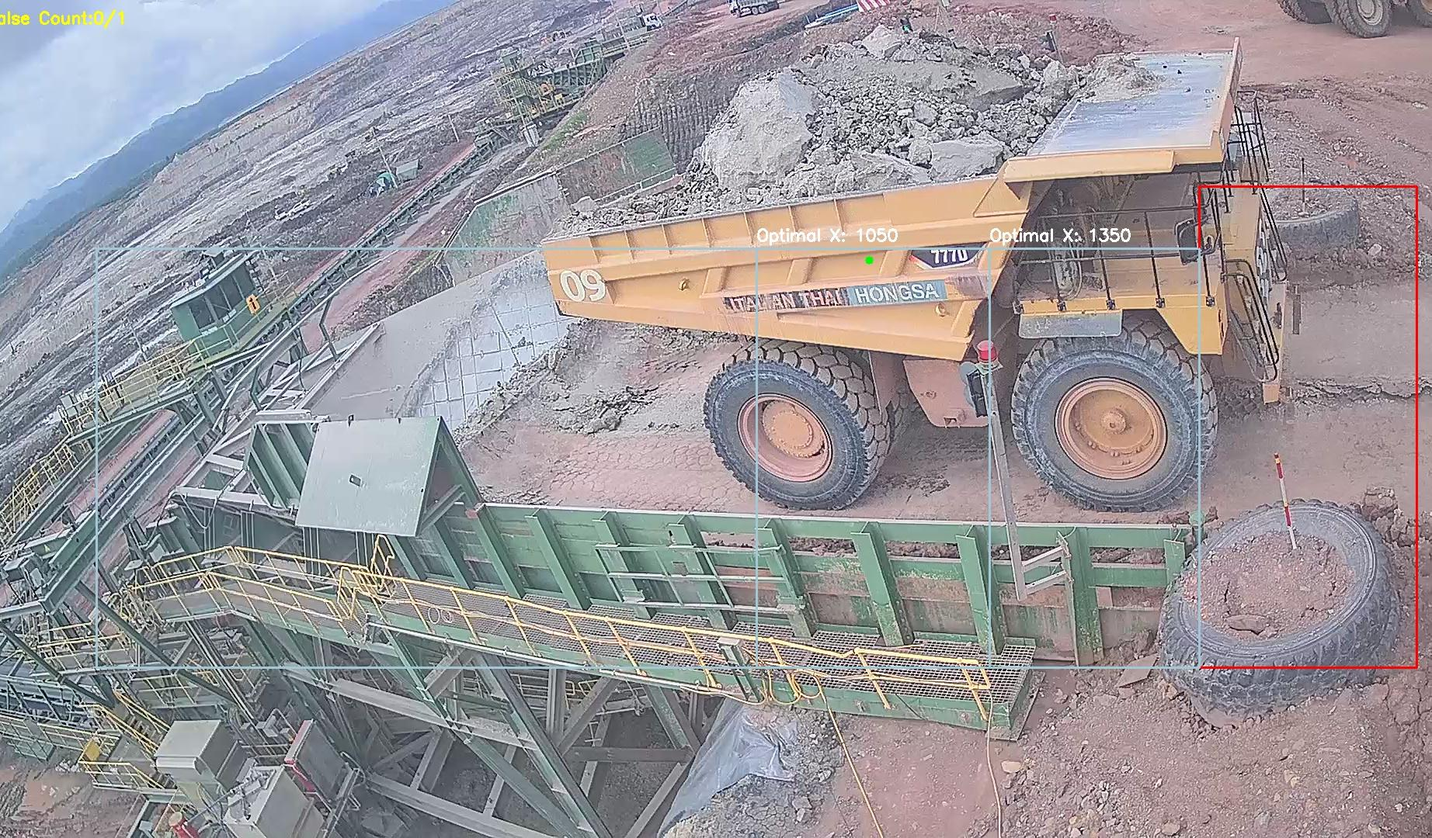company: (717, 269, 949, 317)
full_load: (707, 17, 995, 208)
mining_truck: (527, 8, 1315, 513)
tail_number: (548, 257, 616, 315)
truck_size: (910, 238, 991, 272)
